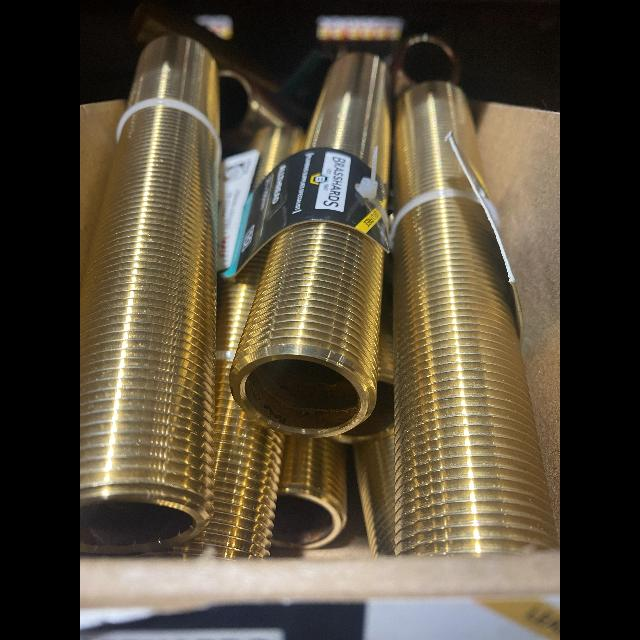Brass: (80, 37, 221, 554), (394, 197, 558, 554), (230, 221, 384, 437), (185, 250, 285, 558), (395, 80, 490, 216), (305, 52, 391, 190), (271, 435, 347, 552), (221, 71, 294, 156), (353, 428, 395, 557), (391, 33, 460, 97), (247, 125, 305, 190), (378, 256, 393, 385)
